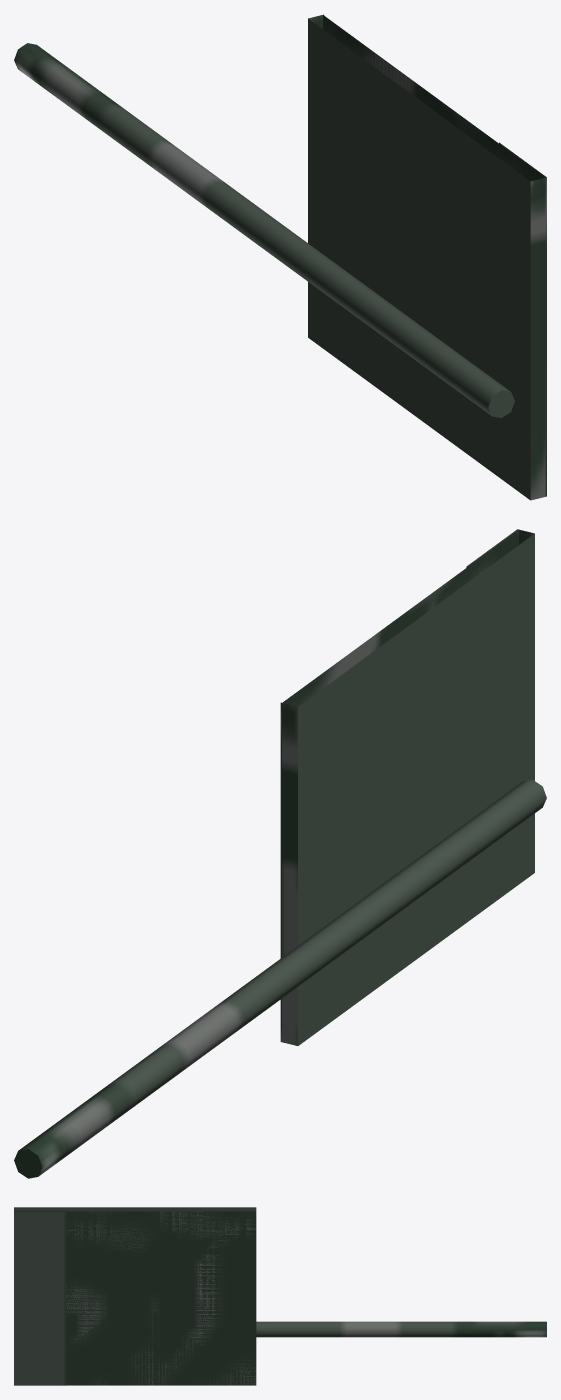
File: section-1.obj
The picture shows the model from 3 angles, top to bottom: view 1: azimuth 30°, elevation 25°; view 2: azimuth 150°, elevation 25°; view 3: azimuth 270°, elevation 25°; orthographic projection. The views are drawn at different scales.
Size of the model in its own units: 0.129 by 0.9095 by 2.53.
